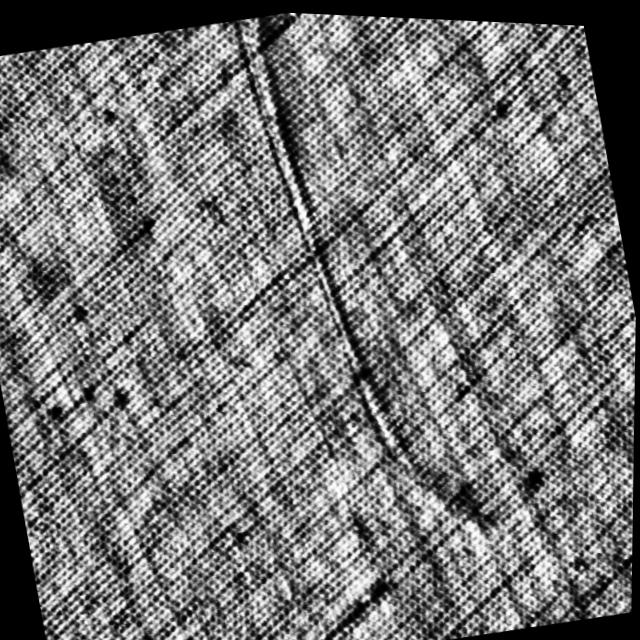Stitch: (224, 8, 427, 489)
